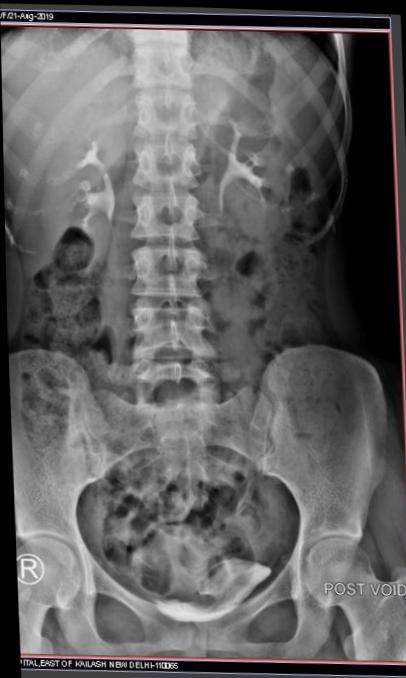bladder: (103, 525, 279, 626)
left kidney: (206, 86, 325, 262)
right kidney: (2, 98, 121, 276)
vertebrae: (127, 139, 204, 192)
